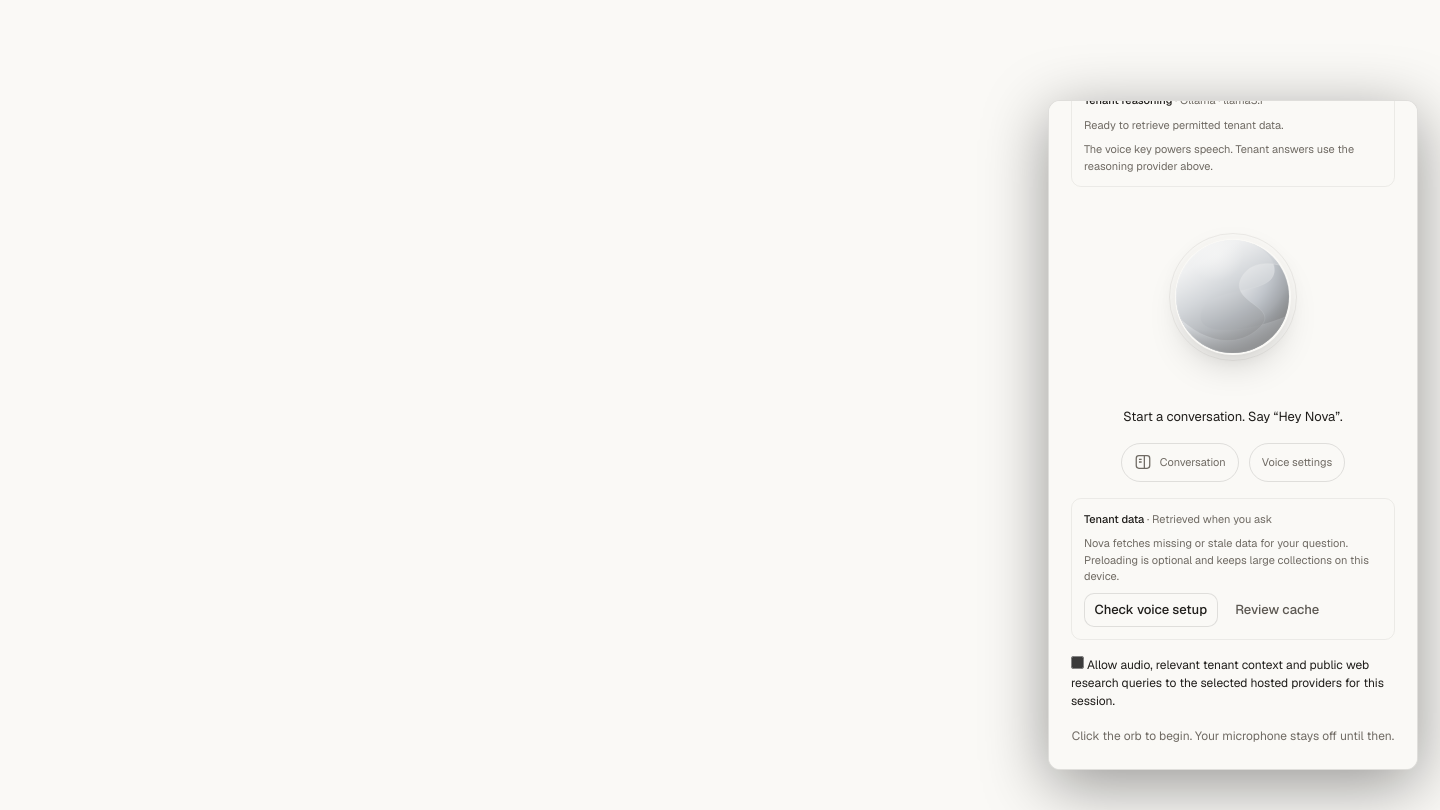
Test: does not activate the microphone until consent and releases a late permission grant after Stop
The width and height of the screenshot is (1440, 810).
(page scrolled)
Expected: the button named "Start Nova" is disabled, [1169,233,1297,361]
Step 1. Click the checkbox → (1078,662), box [1071,656,1084,668]
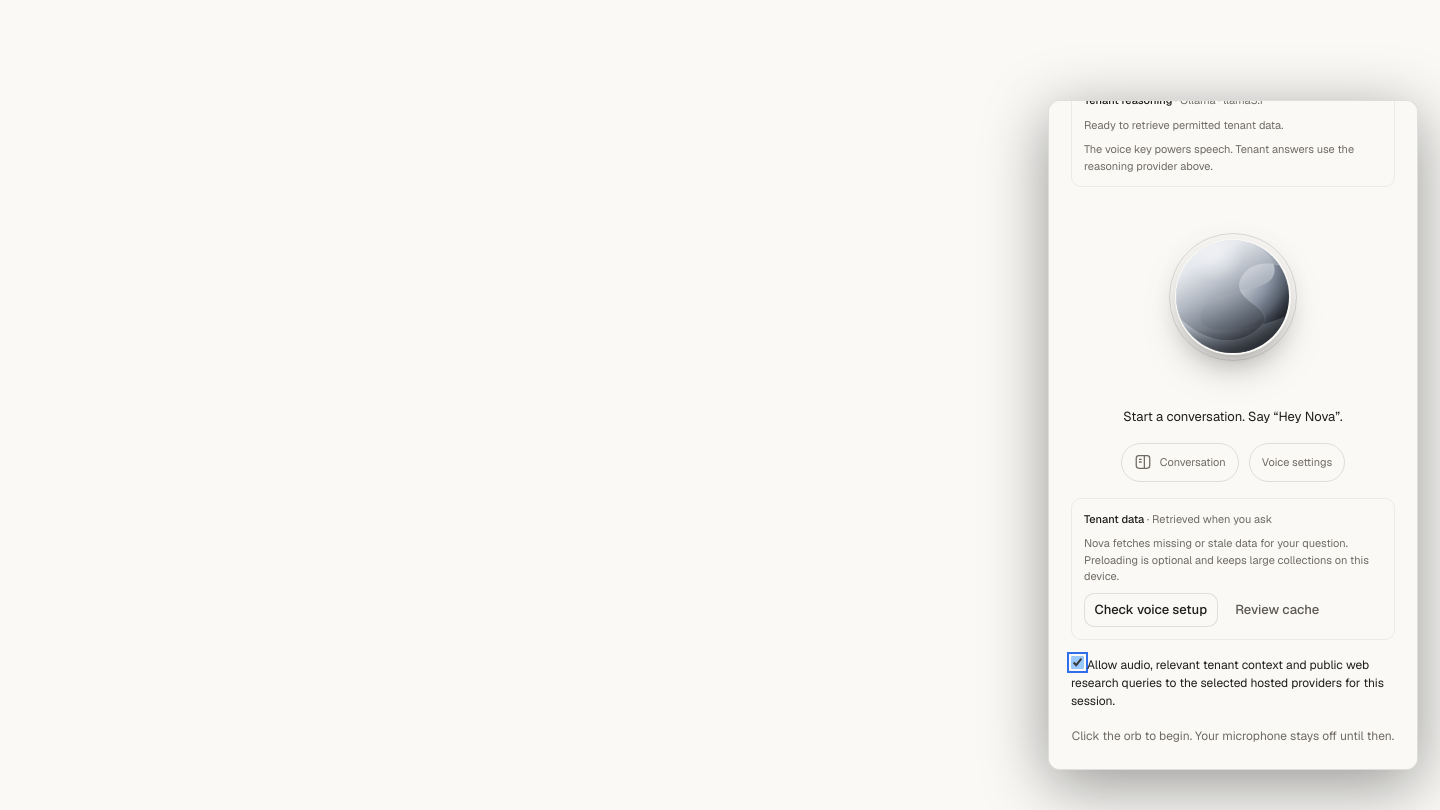
Step 2. Click the button named "Start Nova" → (1233,297), box [1169,233,1297,361]
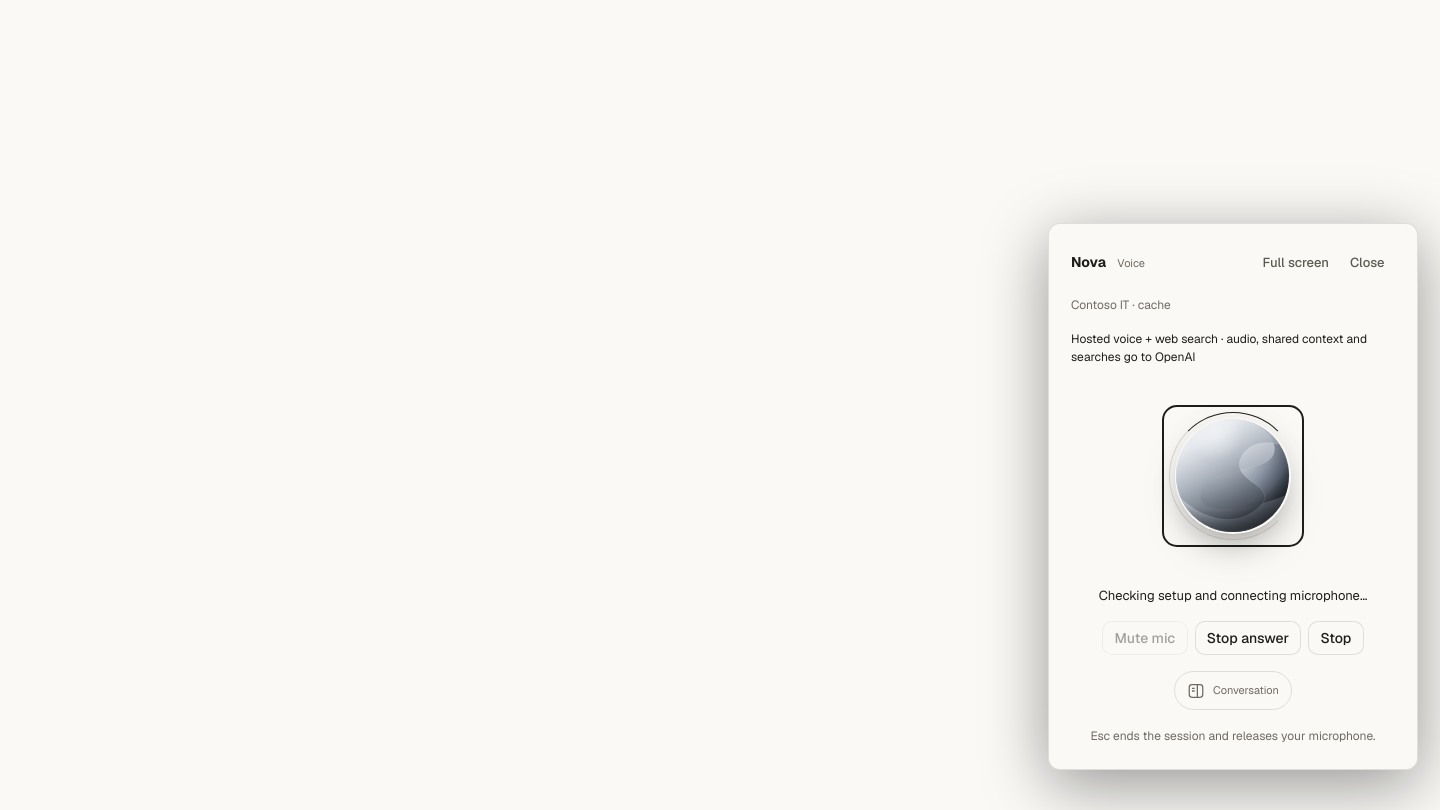
Step 3. Click the button "Stop" → (1336,638), box [1308,621,1364,655]
(page scrolled)
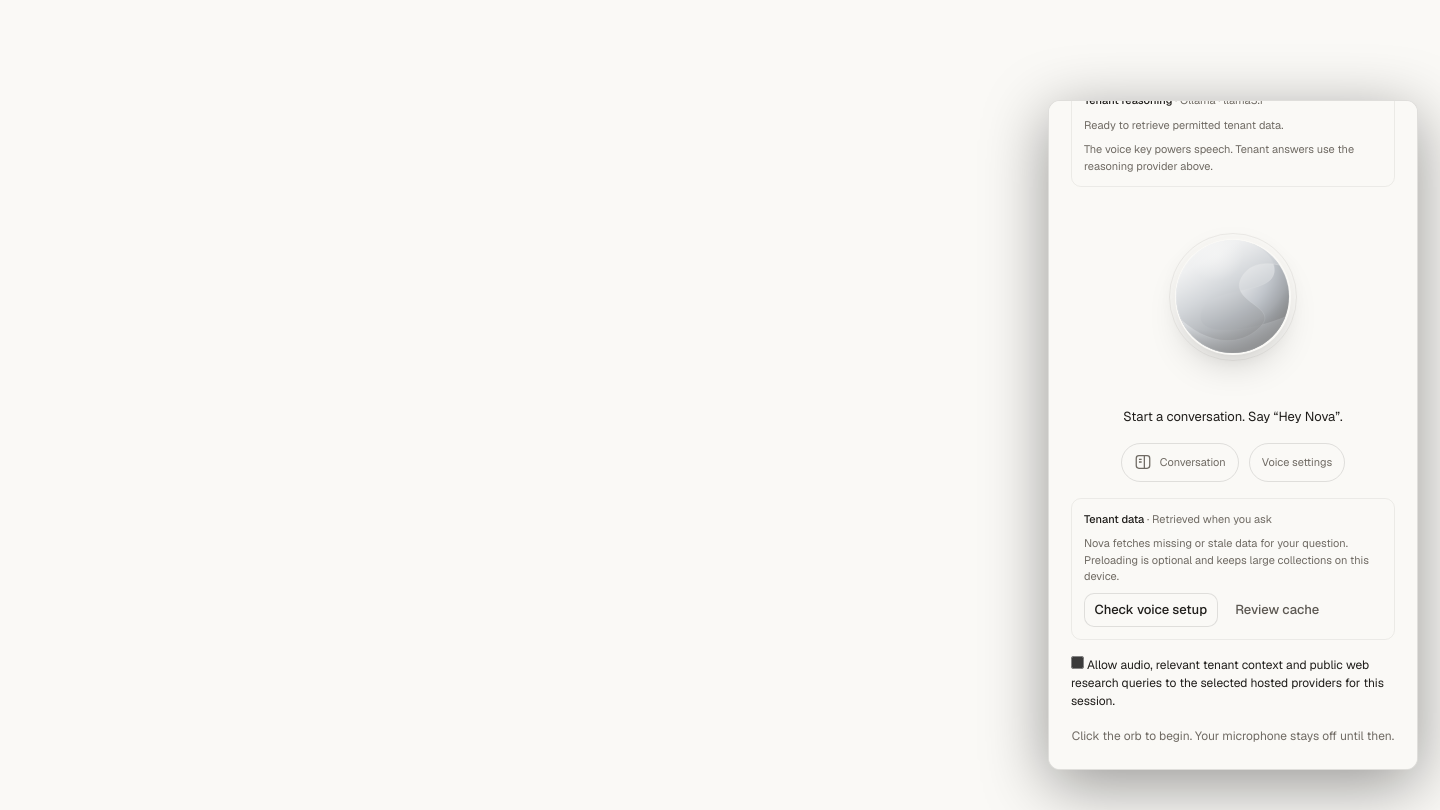
Now the checkbox is not checked, box [1071,656,1084,668]
